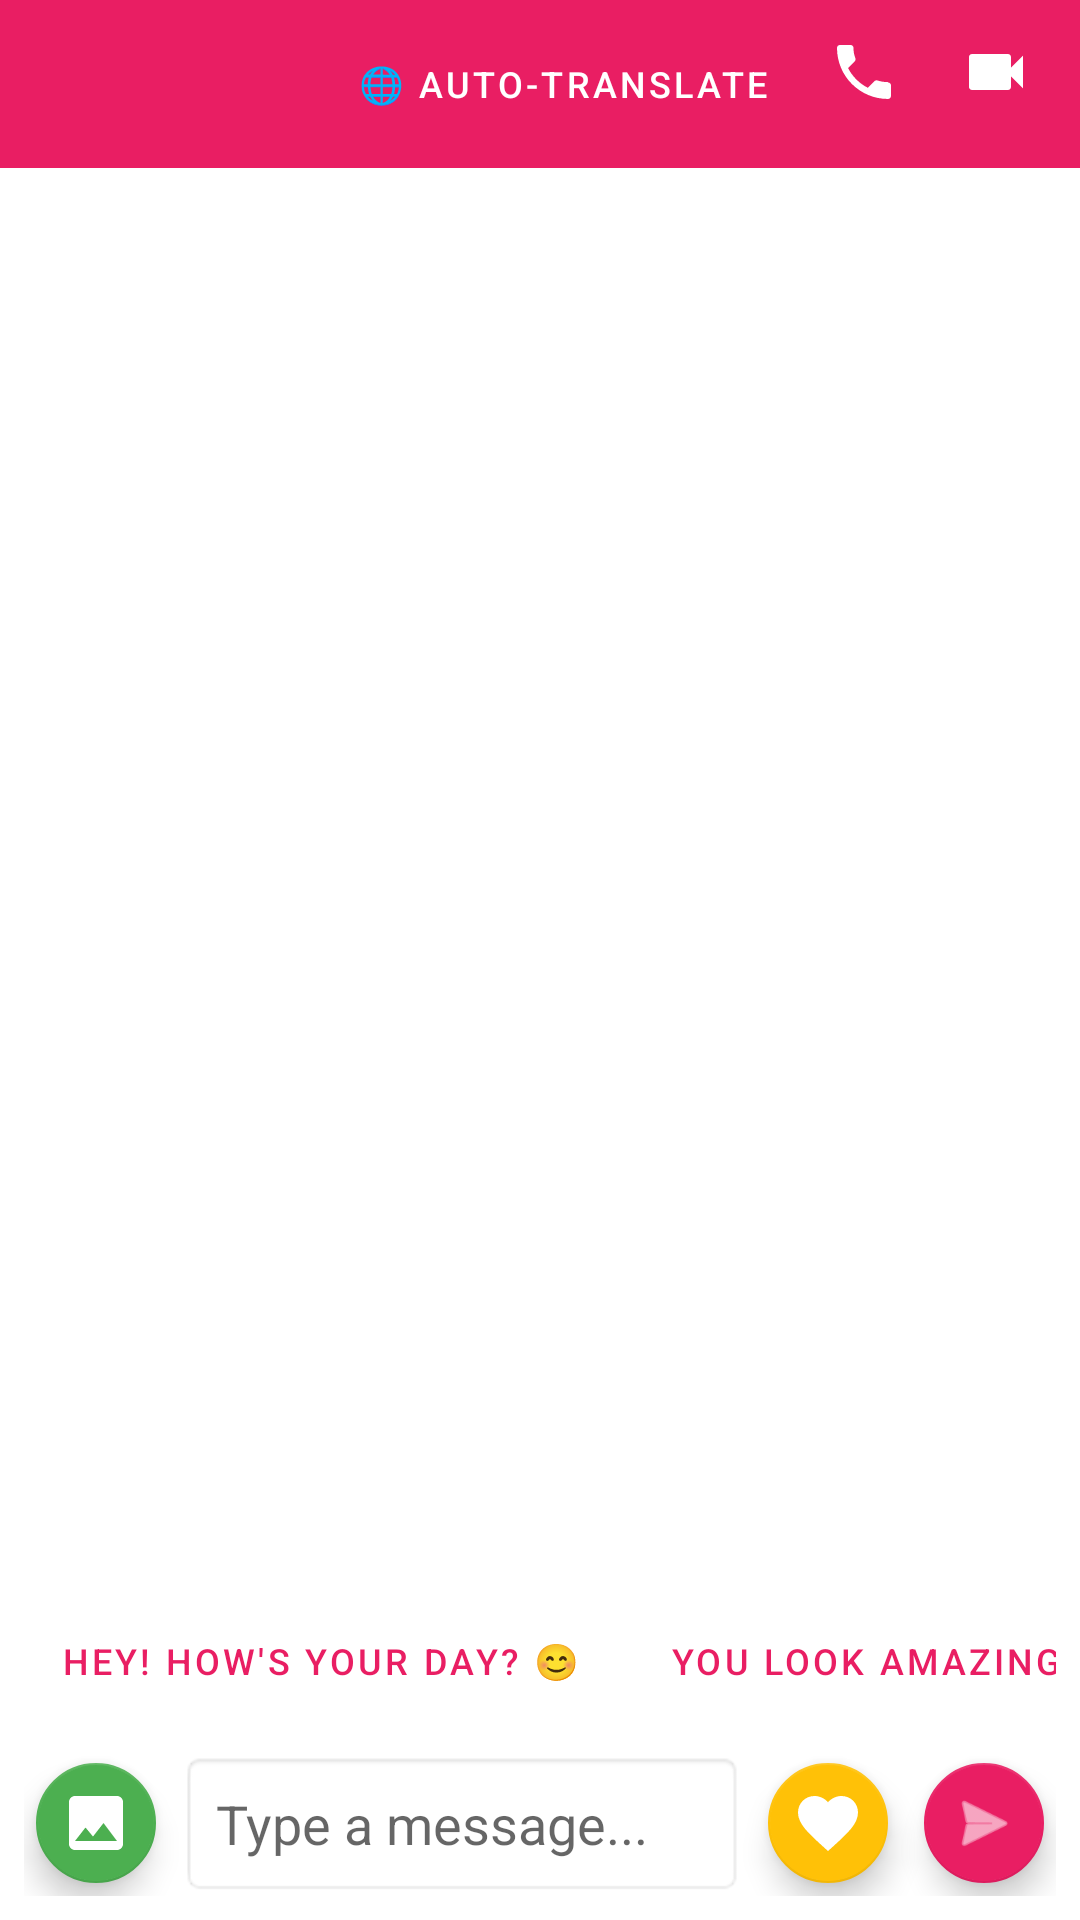

Named icons in this screenshot (1080*1920) and their centers, (x=x, y=y):
call: (x=864, y=72)
photo: (x=95, y=1829)
send: (x=985, y=1829)
videocam: (x=996, y=72)
